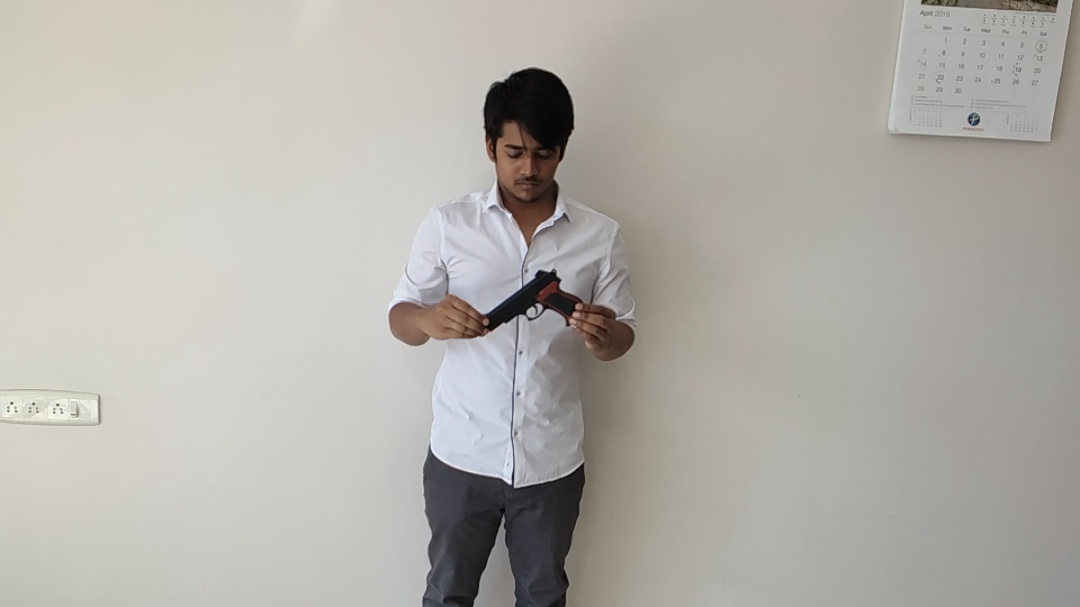gun: (487, 269, 588, 333)
